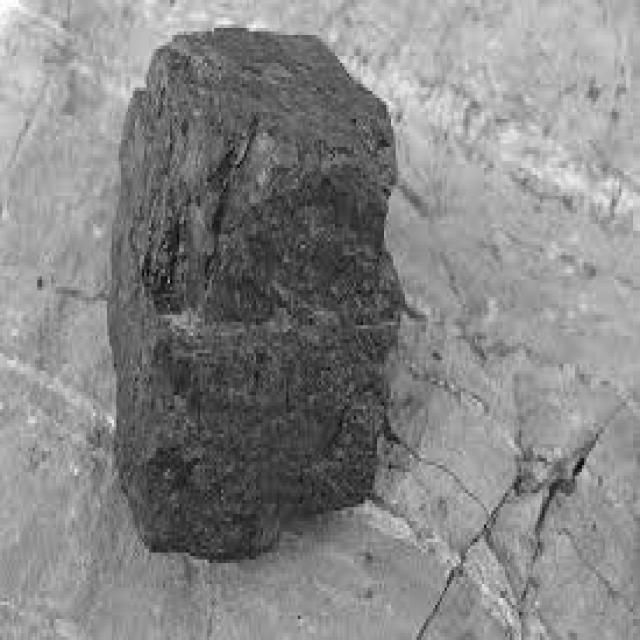Stone: (110, 28, 401, 560)
